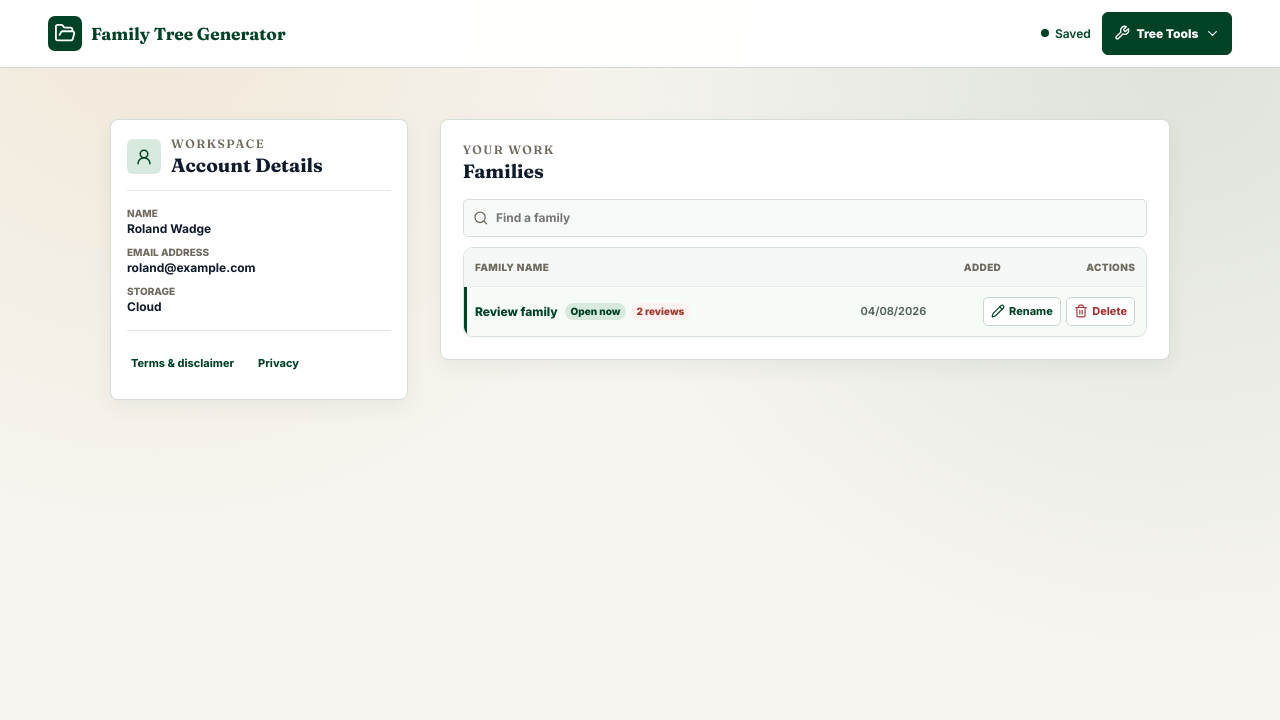
Test: FamilyLibrary › groups family status clearly and removes duplicate actions while renaming
expect the element with class "family-name-badges" shows "Open now": met, box [570,305,620,317]
expect the element with class "family-name-badges" shows "2 reviews": met, box [565,303,690,320]
Click the button with aria-label "Rename Review family": (1022, 311) [983,297,1061,326]
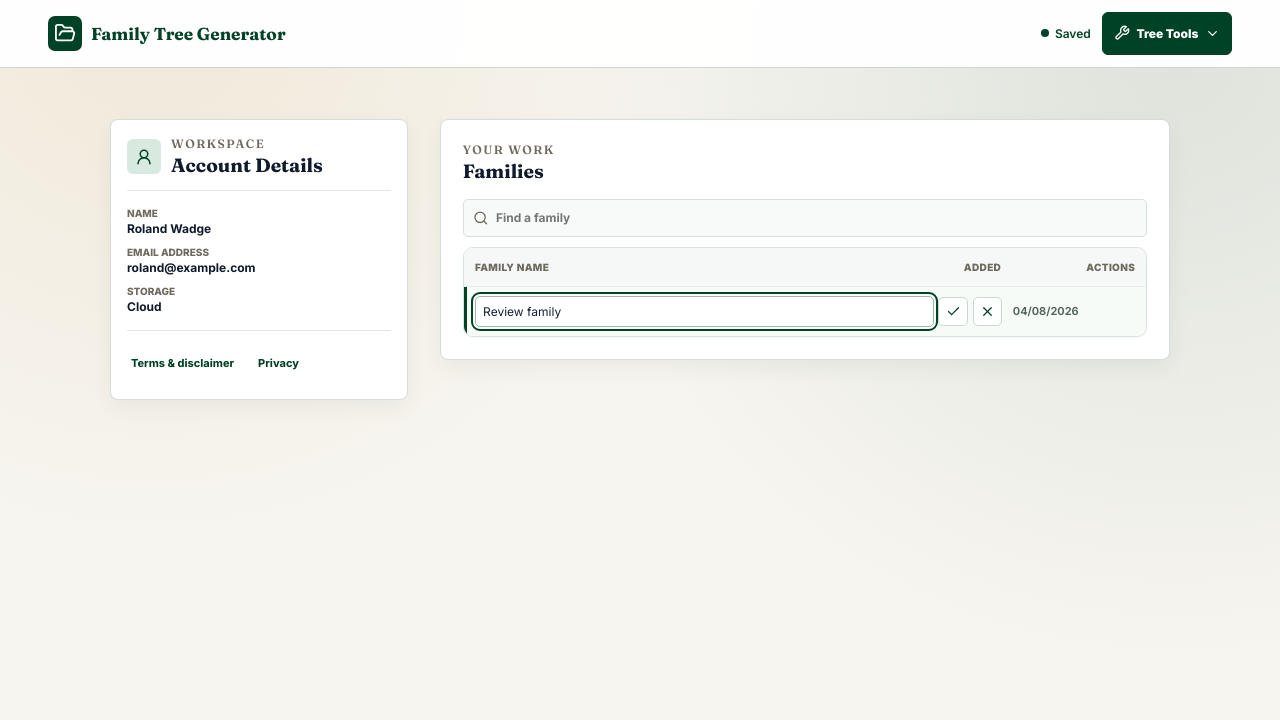
expect the cell with class "family-row-actions" is gone: met
expect the button named "Save family name" is shown: met, box [938,297,968,326]
Press Escape in the form with class "family-rename-form", box [475,296,1002,327]
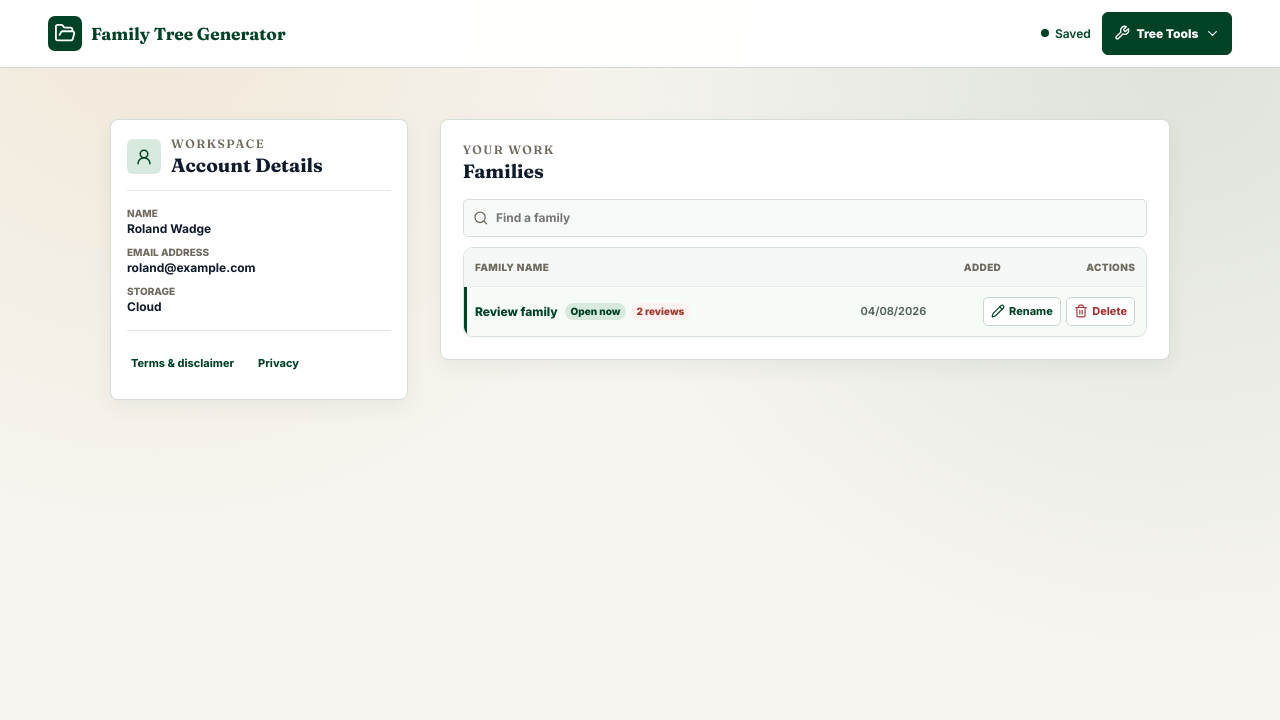
expect the button with class "family-name-button" is shown: met, box [475,303,850,320]
